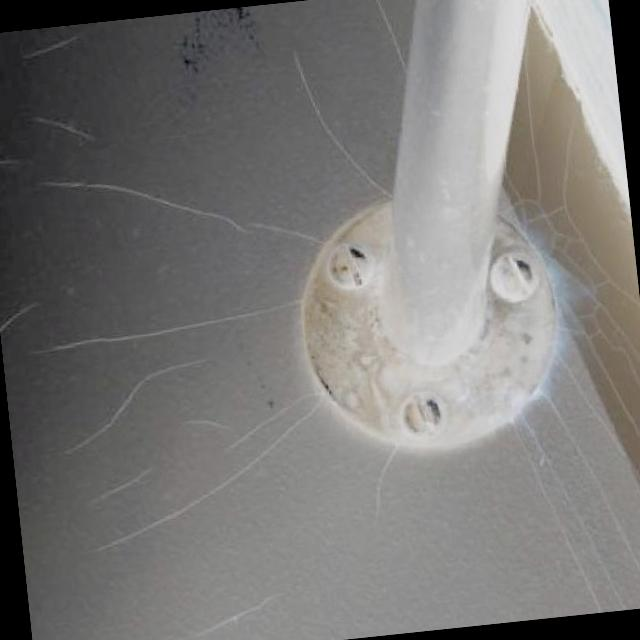crack: (84, 388, 342, 562), (28, 138, 324, 283), (35, 296, 318, 364), (55, 350, 224, 460), (282, 41, 390, 198), (180, 583, 311, 640), (367, 436, 434, 530), (70, 449, 160, 515), (174, 400, 271, 448)
